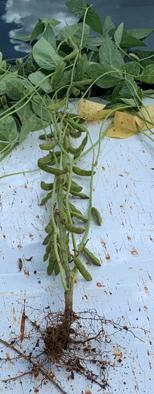soja: (74, 259, 95, 284), (73, 135, 93, 161), (69, 115, 90, 135), (60, 222, 88, 237), (84, 249, 103, 269), (39, 164, 66, 178), (73, 164, 96, 179), (37, 140, 59, 154), (38, 191, 54, 209), (69, 189, 89, 203), (67, 123, 84, 139), (69, 210, 87, 225), (34, 154, 56, 166), (46, 213, 59, 233), (46, 98, 67, 110), (48, 250, 57, 278), (62, 51, 81, 64), (61, 143, 80, 156), (63, 181, 85, 192), (91, 208, 103, 228), (66, 204, 86, 216), (71, 78, 100, 86), (35, 132, 56, 143), (45, 243, 55, 265), (35, 182, 54, 191), (42, 231, 54, 245), (54, 258, 62, 279), (69, 85, 83, 96)
